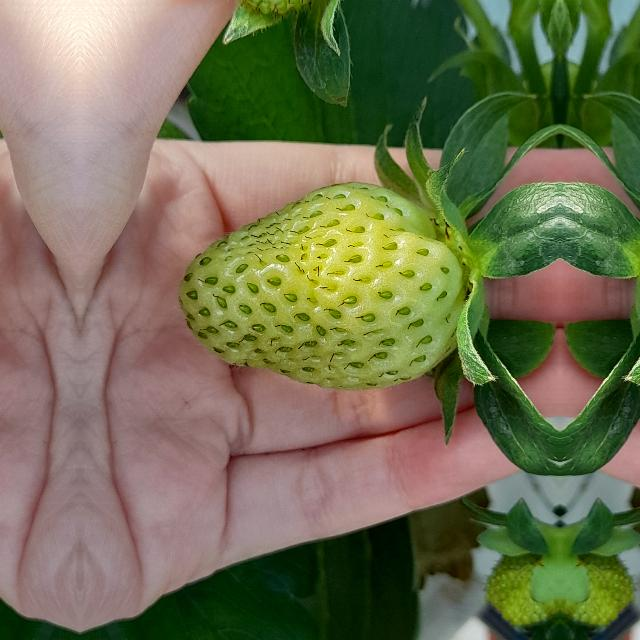Health_25: (177, 182, 467, 390)
